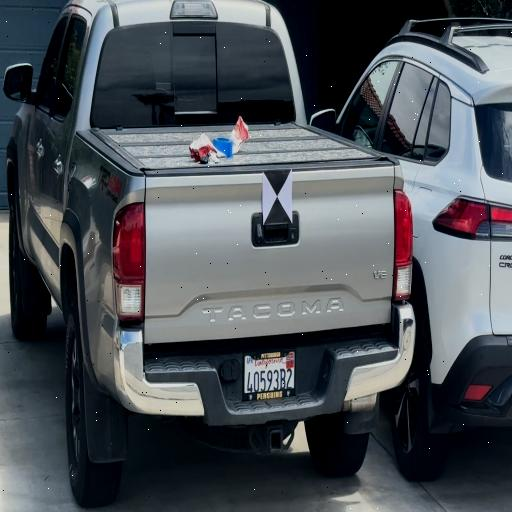target: (264, 170, 292, 222)
